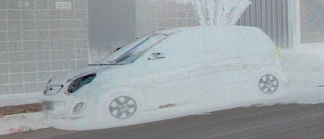car: (43, 27, 283, 118)
